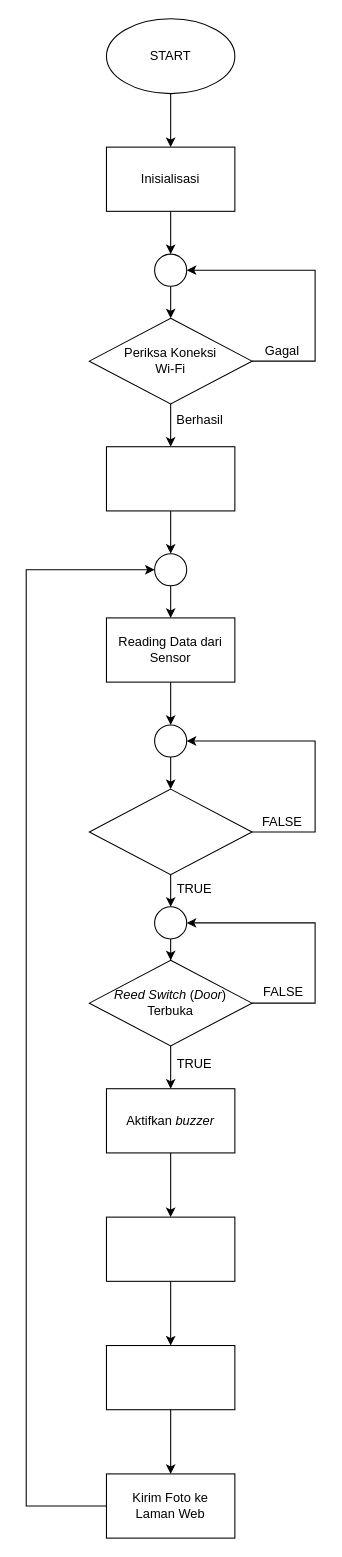
This 342x1557 diagram has some shape labels left out. Here are the shapes that lost their labels. From the top down, the centre of each, then its label:
[170,478]: Mulai Server Web
[170,831]: Lux < 15 lx
[170,1248]: Ambil Foto dengan ESP32-CAM
[170,1377]: Simpan Foto di SPIFFS
